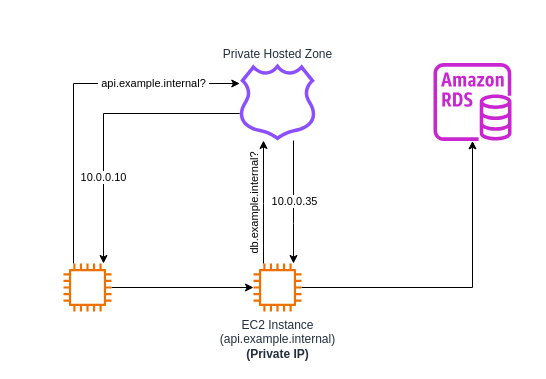
The diagram is 546 pixels wide and 379 high, and some of its shapes have lost their labels. The centre of each missing label's shape, as x and y in pixels:
DB Instance (db.example.internal) (Private IP): point 472,101
EC2 Instance (webapp.example.internal) (Public IP): point 87,287
